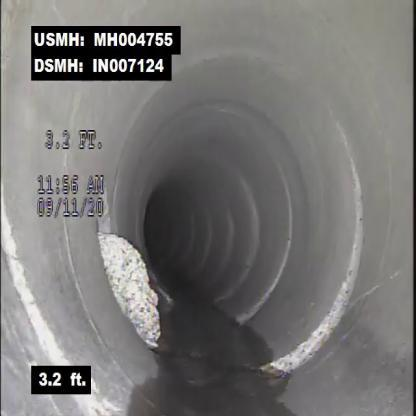Debris: (91, 221, 176, 356)
